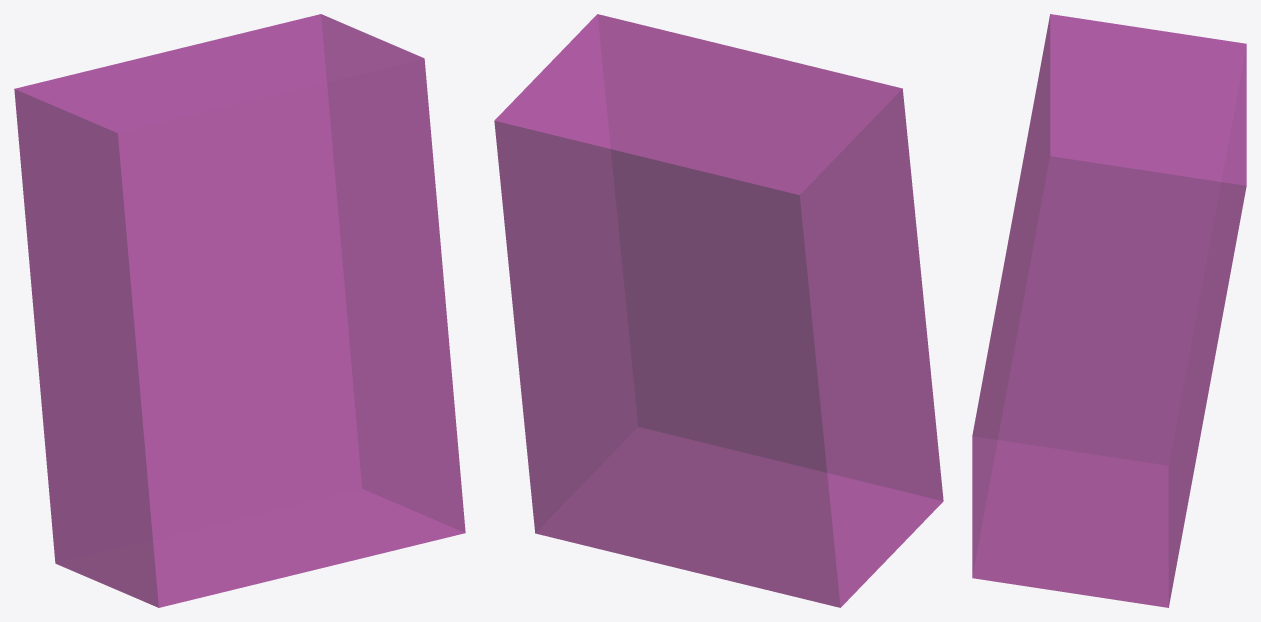
Rendered from SM_Prop_Cage_01_Door_01_Lock_01_Collision.fbx.
3 renders of one model, left to right at view 1: azimuth 30°, elevation 25°; view 2: azimuth 150°, elevation 25°; view 3: azimuth 270°, elevation 25°, orthographic. The views are drawn at different scales.
Parts seen in each view (by area): view 1: SM_Prop_Cage_01_Door_01_Lock_01_Collision; view 2: SM_Prop_Cage_01_Door_01_Lock_01_Collision; view 3: SM_Prop_Cage_01_Door_01_Lock_01_Collision.
Part boxes in pixels (x1,y1,x2,y2): SM_Prop_Cage_01_Door_01_Lock_01_Collision: (14,14,465,607); SM_Prop_Cage_01_Door_01_Lock_01_Collision: (494,14,943,607); SM_Prop_Cage_01_Door_01_Lock_01_Collision: (972,14,1246,607).
Size of the model in its own units: 18.51 by 27.45 by 15.11.
